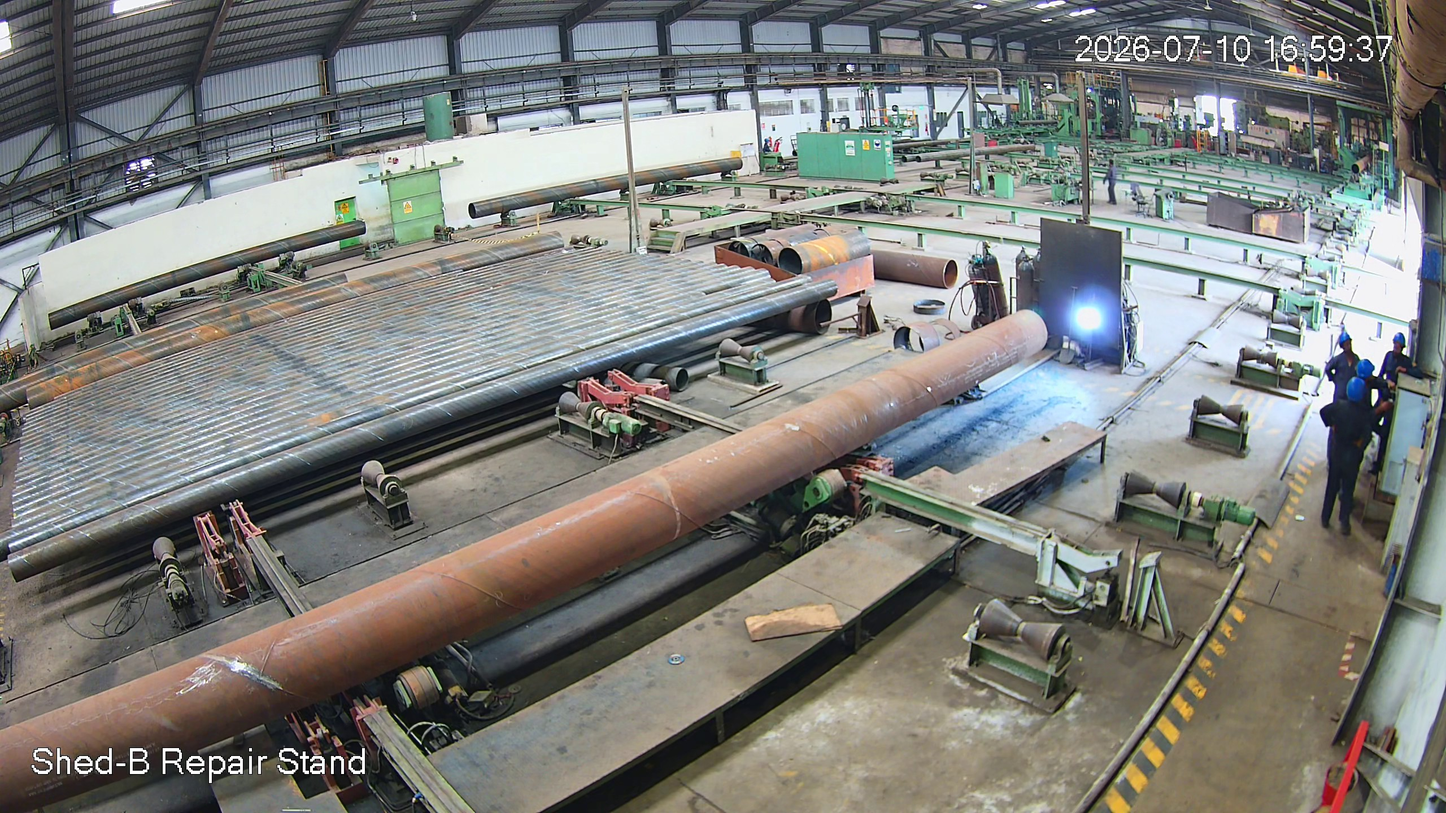Helmet: (1343, 375, 1370, 415), (1333, 329, 1364, 362), (1390, 330, 1412, 363)
Person: (1319, 380, 1377, 531), (1374, 331, 1411, 457), (1324, 330, 1354, 420)
